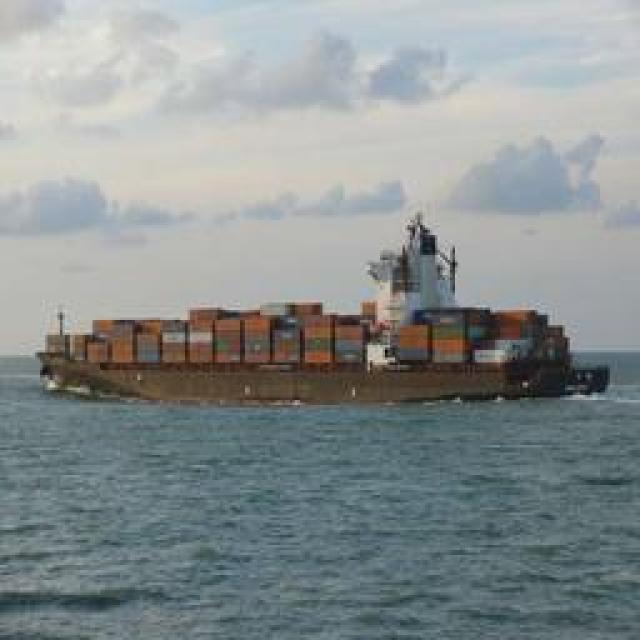CIV_Ship: (26, 295, 599, 400)
